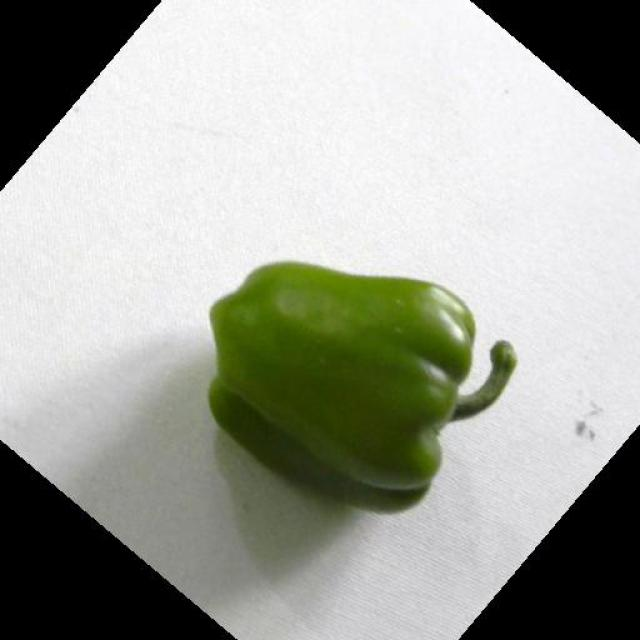Fresh_Capsicum: (194, 280, 547, 458)
